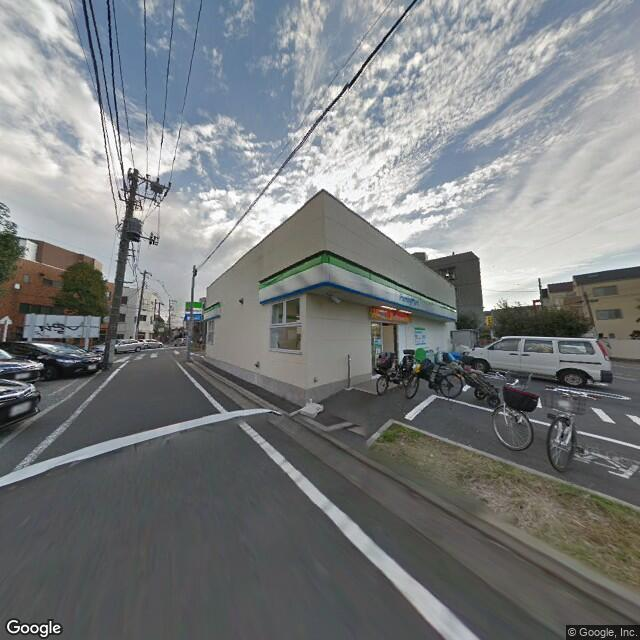family_mart: (256, 252, 460, 324), (183, 297, 206, 325)
